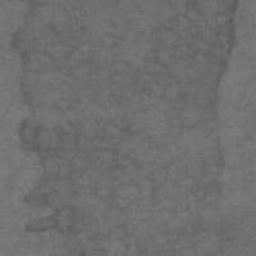Water spot: (5, 0, 256, 256)
